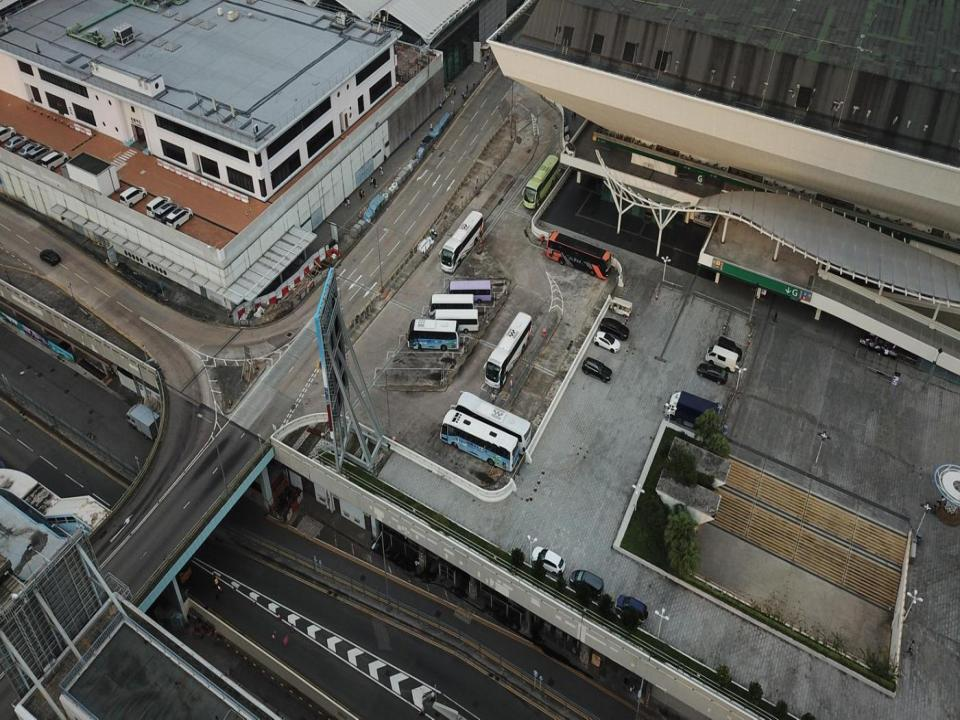bus: (450, 390, 532, 456), (438, 409, 519, 472), (484, 312, 532, 390), (546, 230, 612, 279), (438, 210, 484, 273), (522, 154, 559, 209), (406, 319, 460, 350), (432, 309, 480, 333), (428, 293, 475, 317), (449, 280, 492, 302)
car: (531, 544, 565, 576), (600, 317, 629, 341), (696, 363, 728, 384), (594, 330, 620, 352), (4, 135, 29, 152), (18, 142, 41, 160), (40, 249, 59, 267), (0, 126, 16, 145)
truck: (664, 390, 719, 433), (157, 537, 191, 584), (126, 402, 162, 440)
van: (569, 570, 604, 600), (614, 595, 649, 625), (704, 344, 738, 373), (582, 357, 612, 382), (717, 336, 742, 361), (166, 206, 193, 229), (27, 144, 55, 166), (119, 185, 147, 207), (154, 202, 180, 225), (146, 196, 173, 218), (40, 151, 68, 172)
